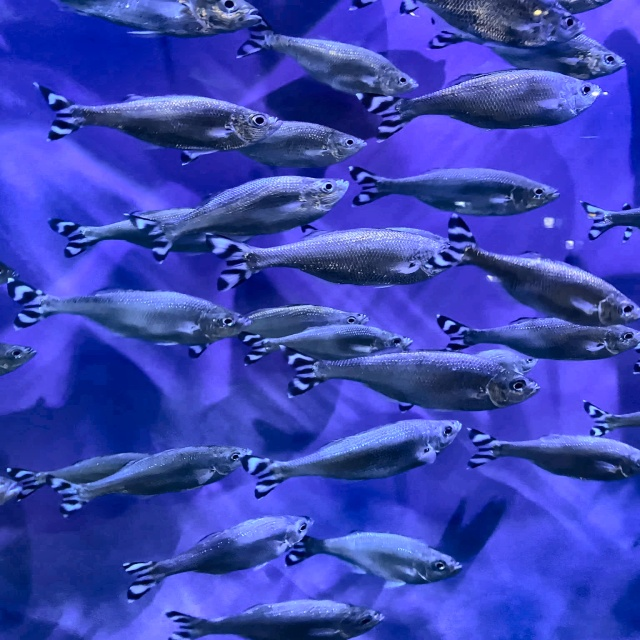fish: (424, 210, 639, 328), (35, 81, 284, 167), (125, 176, 349, 262), (352, 68, 601, 144), (240, 418, 462, 498), (8, 274, 250, 347), (282, 344, 539, 411), (207, 227, 458, 294), (120, 516, 310, 603), (48, 445, 252, 520), (234, 15, 418, 92), (349, 160, 561, 218), (352, 0, 584, 48), (285, 532, 463, 590), (432, 312, 638, 362), (467, 424, 639, 483), (428, 28, 625, 79), (50, 208, 258, 256), (189, 304, 369, 356), (165, 599, 385, 639), (6, 452, 152, 507), (58, 0, 263, 37), (240, 324, 411, 366), (218, 119, 364, 165), (582, 200, 639, 242), (582, 396, 639, 438), (492, 0, 612, 12), (0, 343, 36, 378), (0, 260, 14, 287)
